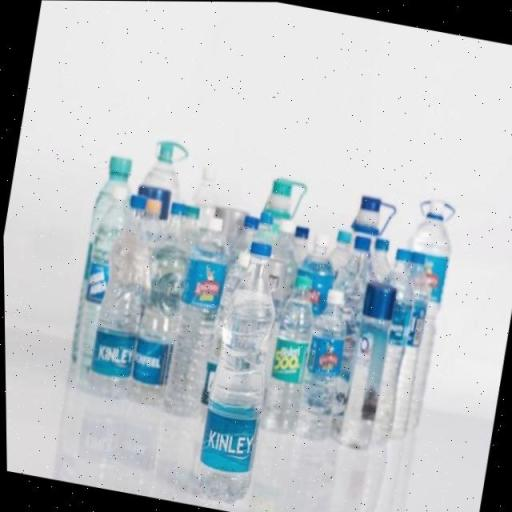plastic: (182, 236, 291, 512)
